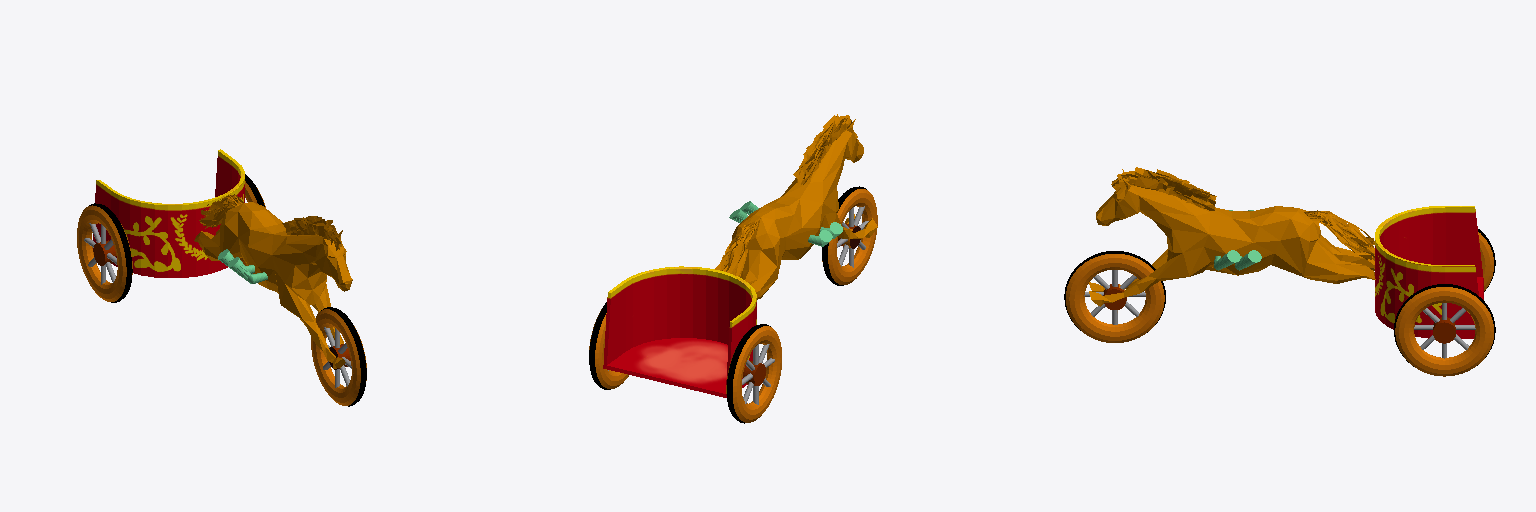
3 views of the same model, side by side, from view 1: azimuth 30°, elevation 25°; view 2: azimuth 150°, elevation 25°; view 3: azimuth 270°, elevation 25° (orthographic).
Parts seen in each view (by area): view 1: Horse, Chassis, rightWheel, frontWheel; view 2: Chassis, Horse, rightWheel, frontWheel, leftWheel; view 3: Horse, Chassis, leftWheel, frontWheel, rightWheel.
Boxes of the visible parts, box(x1,y1,x2,y2) form: Horse: box(194, 194, 352, 368); Chassis: box(93, 149, 244, 277); rightWheel: box(77, 203, 132, 302); frontWheel: box(311, 307, 366, 406); Chassis: box(603, 266, 756, 397); Horse: box(715, 114, 877, 299); rightWheel: box(726, 324, 781, 423); frontWheel: box(822, 186, 877, 285); leftWheel: box(589, 302, 628, 389); Horse: box(1089, 167, 1375, 306); Chassis: box(1375, 206, 1483, 338); leftWheel: box(1394, 284, 1495, 376); frontWheel: box(1064, 251, 1165, 342); rightWheel: box(1478, 229, 1495, 291).
Size of the model in its own units: 0.6345 by 0.7055 by 1.59.
Materials: 4 (2 with a texture image).